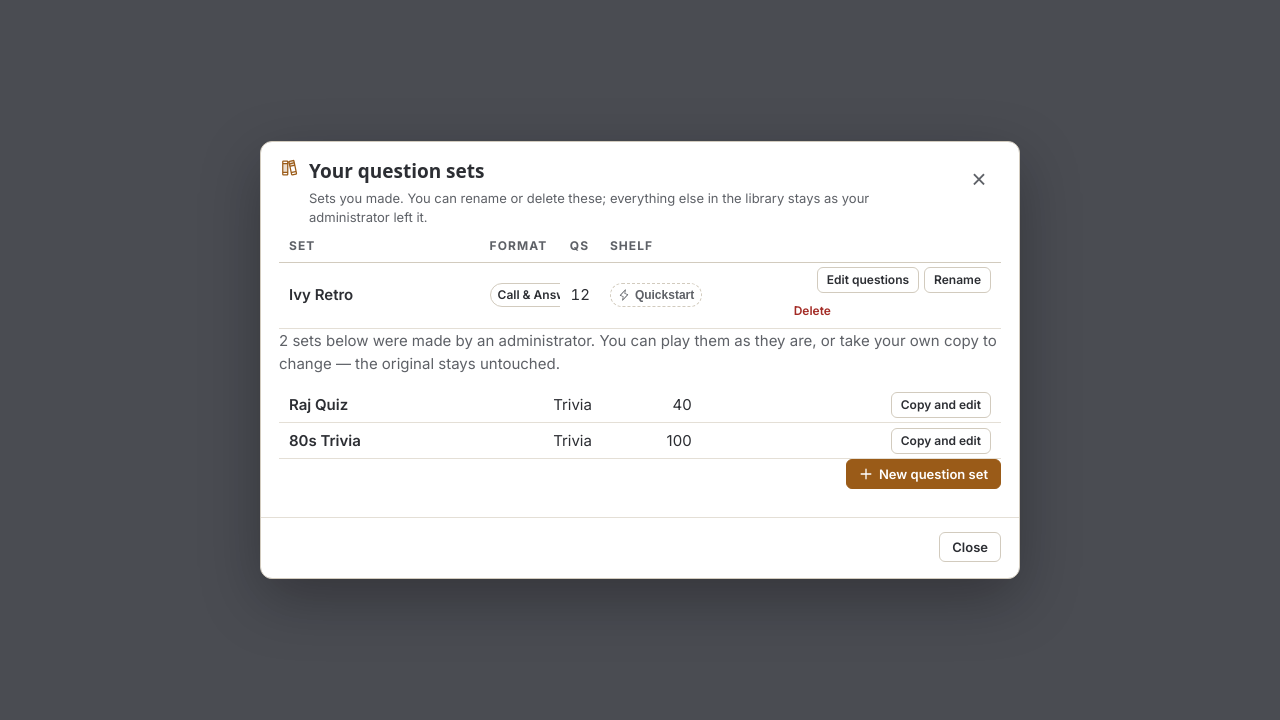
Test case: a host edits the questions in a set they own › an edit saves back to the host’s own set, on the route hosts may call
The image size is (1280, 720).
Later steps or results of the test are not shown.
Click the button "Edit questions": point(868, 280) top-left (817, 267), bottom-right (919, 293)
(page scrolled)
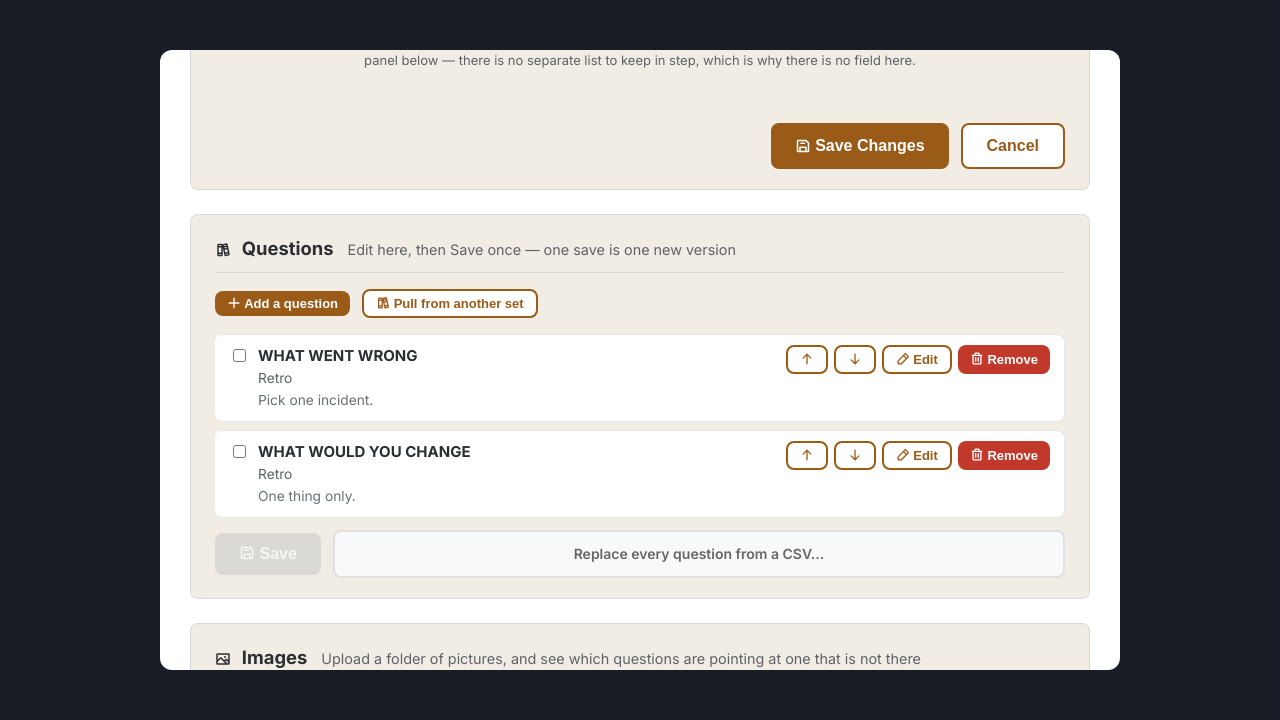
Expected: the list item with test id "question-0" is shown, top-left (215, 334), bottom-right (1065, 422)
